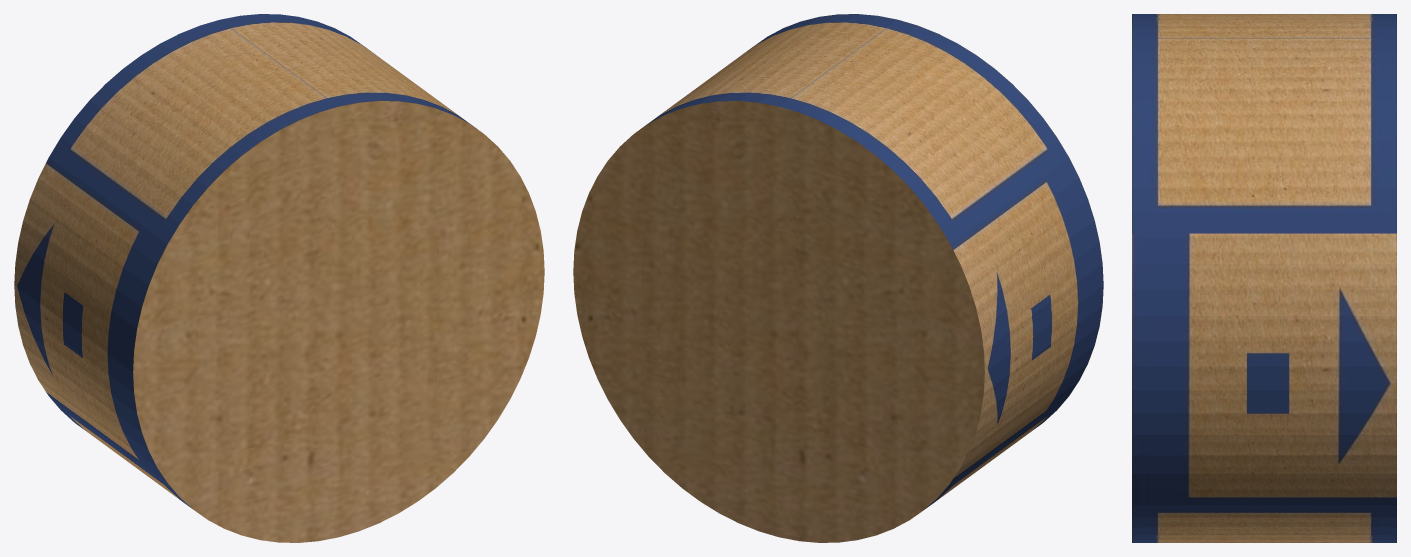
Rendered from CylinderFBX.fbx.
3 views of the same model, side by side, from view 1: azimuth 30°, elevation 25°; view 2: azimuth 150°, elevation 25°; view 3: azimuth 270°, elevation 25° (orthographic). The views are drawn at different scales.
Parts seen in each view (by area): view 1: Cylinder; view 2: Cylinder; view 3: Cylinder.
Part boxes in pixels (box(x1,y1,x2,y2)): Cylinder: box(14, 14, 544, 542); Cylinder: box(573, 14, 1103, 542); Cylinder: box(1132, 14, 1396, 542).
Size of the model in its own units: 200 by 200 by 100.
